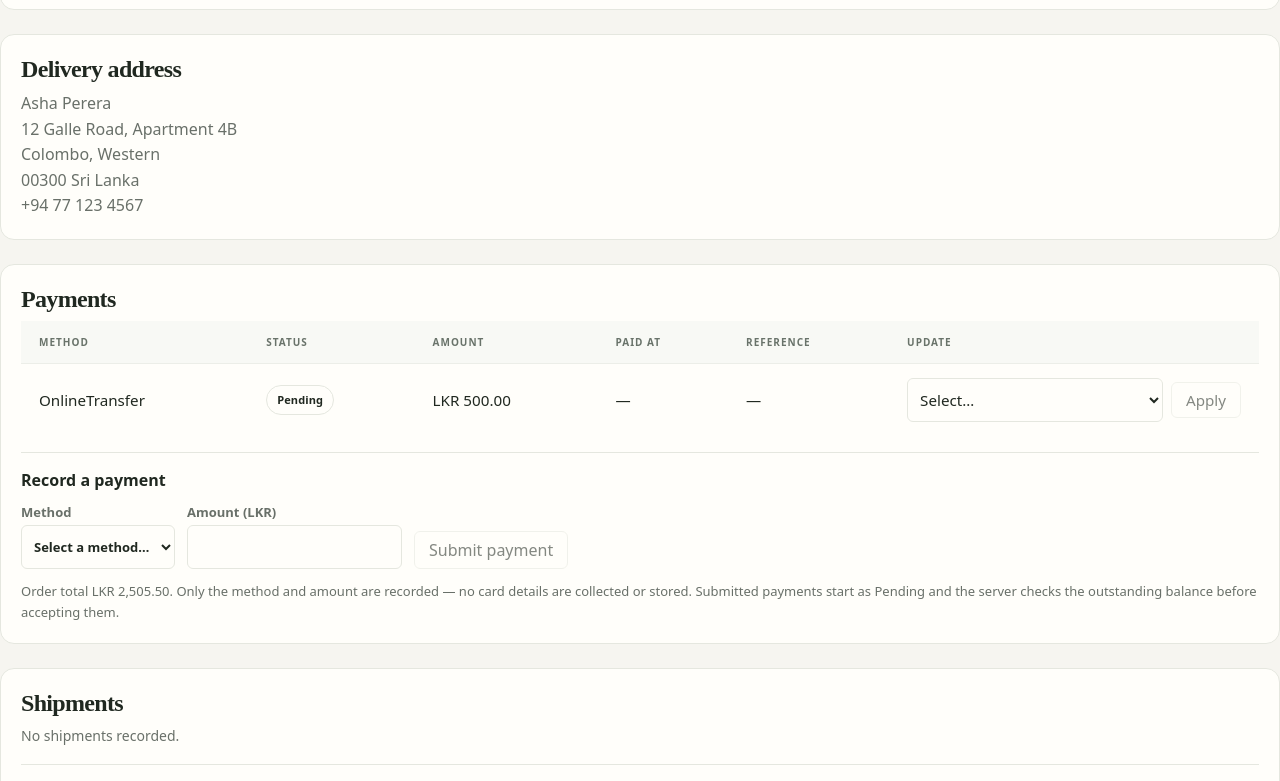
Test case: OrderDetailPage › shows the server message when a payment status change conflicts
(page scrolled)
Select "Completed" in the dropdown named "Update OnlineTransfer payment" at point(1035, 400), box left=907, top=378, right=1163, bottom=422
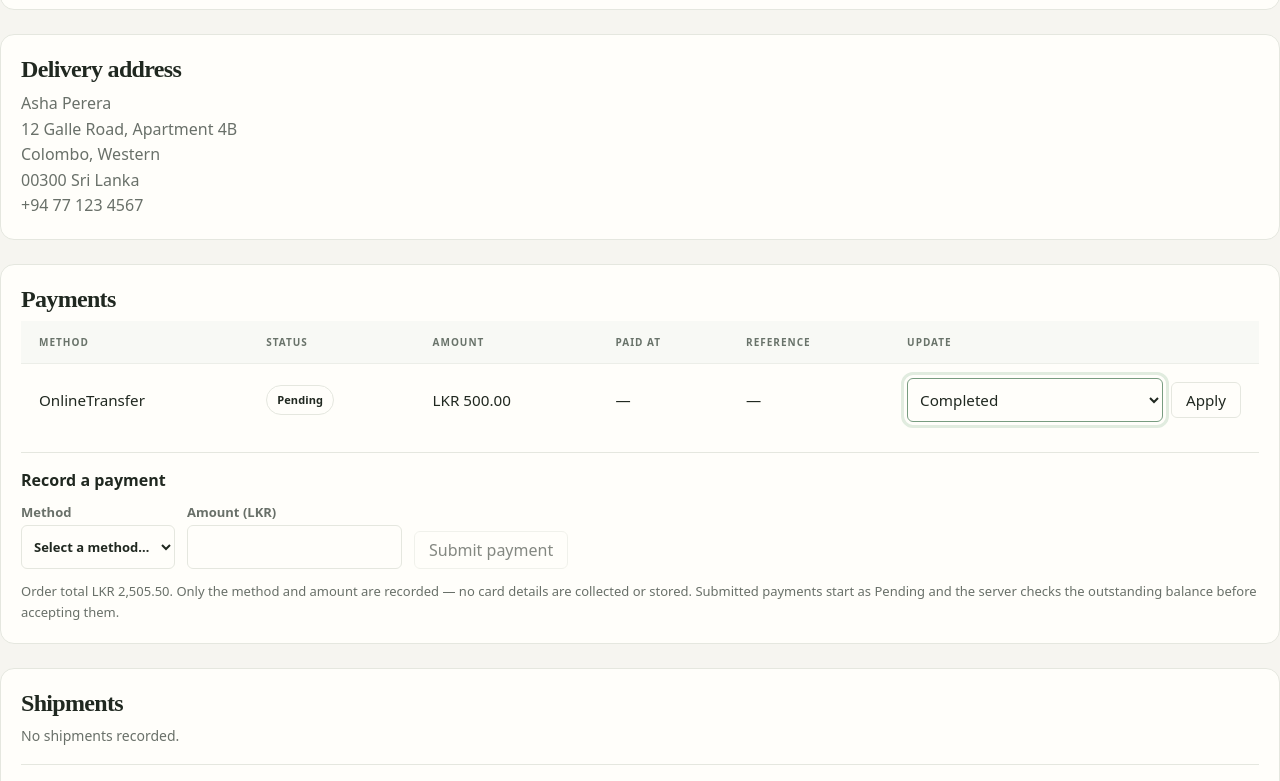
Click the button "Apply" at point(1206, 400), box left=1171, top=382, right=1241, bottom=418
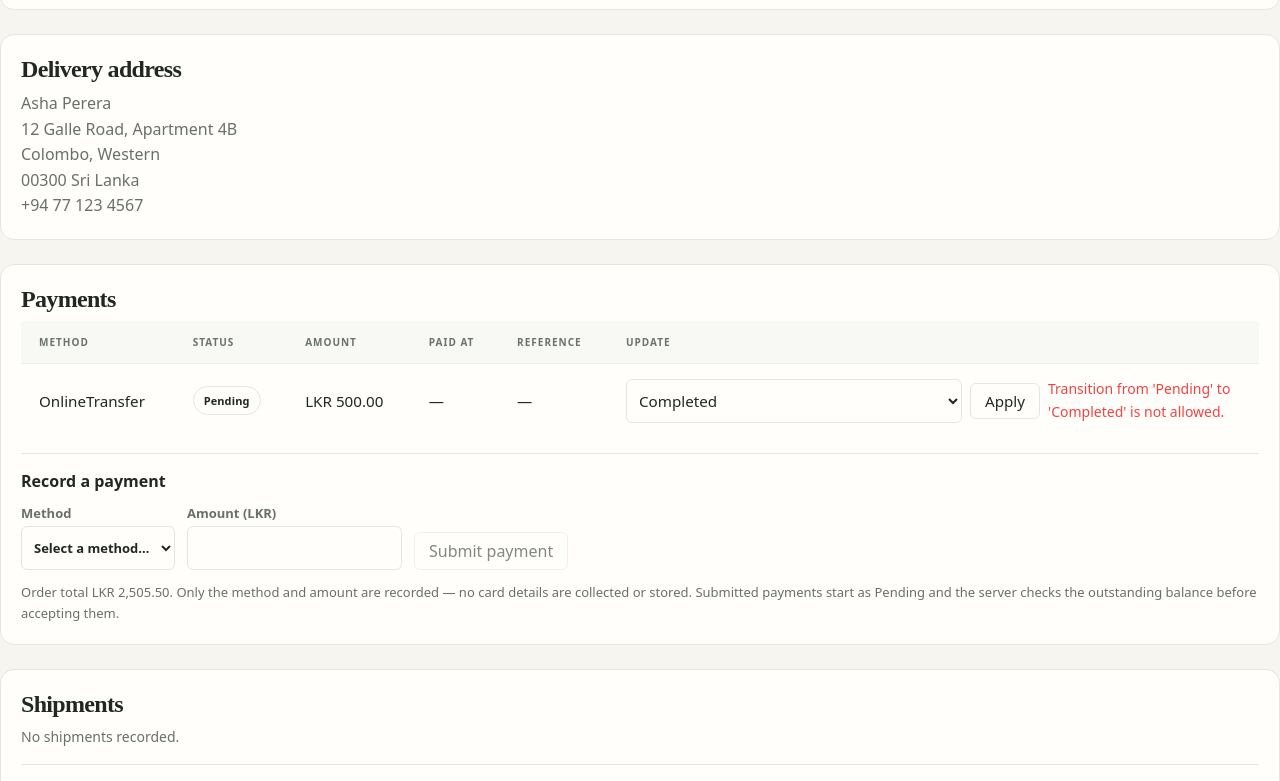
Expected: the text "Transition from 'Pending' to 'Completed' is not allowed." is shown, left=1048, top=378, right=1241, bottom=423
